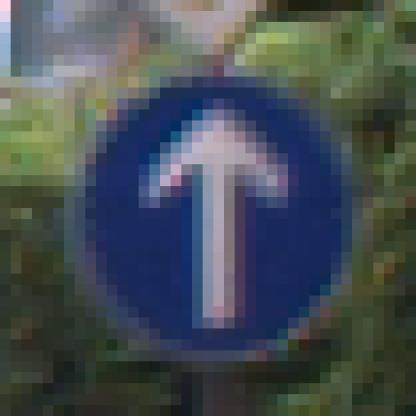AheadOnly: (65, 56, 353, 351)
